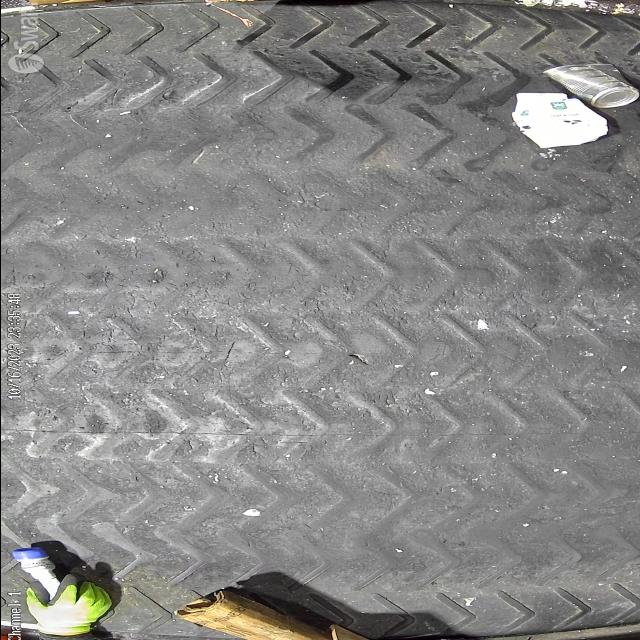can: (541, 63, 640, 109)
